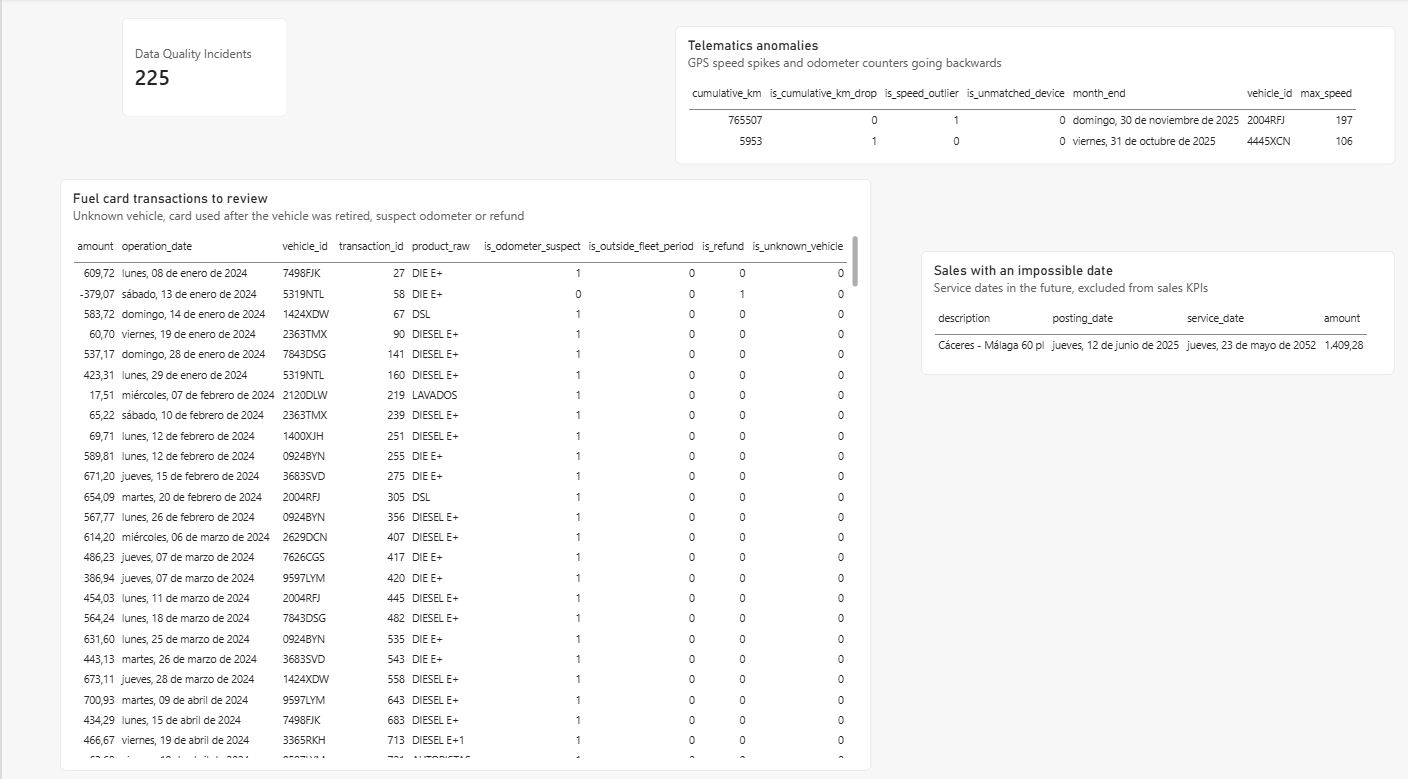

What the dashboard file says about the page in this screenshot:
{"tool":"powerbi","page":{"name":"Data Quality","canvas":[1920,1080],"ordinal":2},"visuals":[{"type":"cardVisual","fields":{"Data":["_Measures.Data Quality Incidents"]},"box":[159.6,26.6,220.8,131.7],"z":0},{"type":"tableEx","title":"Fuel card transactions to review","fields":{"Values":["fact_fleet_expense.amount","fact_fleet_expense.operation_date","fact_fleet_expense.vehicle_id","fact_fleet_expense.transaction_id","fact_fleet_expense.product_raw","fact_fleet_expense.is_odometer_suspect","fact_fleet_expense.is_outside_fleet_period","fact_fleet_expense.is_refund","fact_fleet_expense.is_unknown_vehicle"]},"box":[77.1,240.7,1078.7,787.4],"z":1000},{"type":"tableEx","title":"Telematics anomalies","fields":{"Values":["fact_telematics.cumulative_km","fact_telematics.is_cumulative_km_drop","fact_telematics.is_speed_outlier","fact_telematics.is_unmatched_device","fact_telematics.month_end","fact_telematics.vehicle_id","fact_telematics.max_speed"]},"box":[895.1,37.2,957.6,183.5],"z":2000},{"type":"tableEx","title":"Sales with an impossible date","fields":{"Values":["fact_sales.description","fact_sales.posting_date","fact_sales.service_date","fact_sales.amount"]},"box":[1222.3,336.5,630.4,164.9],"z":3000}]}

Visuals, with their boxes in screenshot pixels (x1, y1, x2, y2), scaled from the page's 1920x1080 canvas onto the 1408x779 screenshot:
cardVisual - _Measures.Data Quality Incidents: <region>117, 19, 279, 114</region>
"Fuel card transactions to review" tableEx: <region>57, 174, 848, 742</region>
"Telematics anomalies" tableEx: <region>656, 27, 1359, 159</region>
"Sales with an impossible date" tableEx: <region>896, 243, 1359, 362</region>
